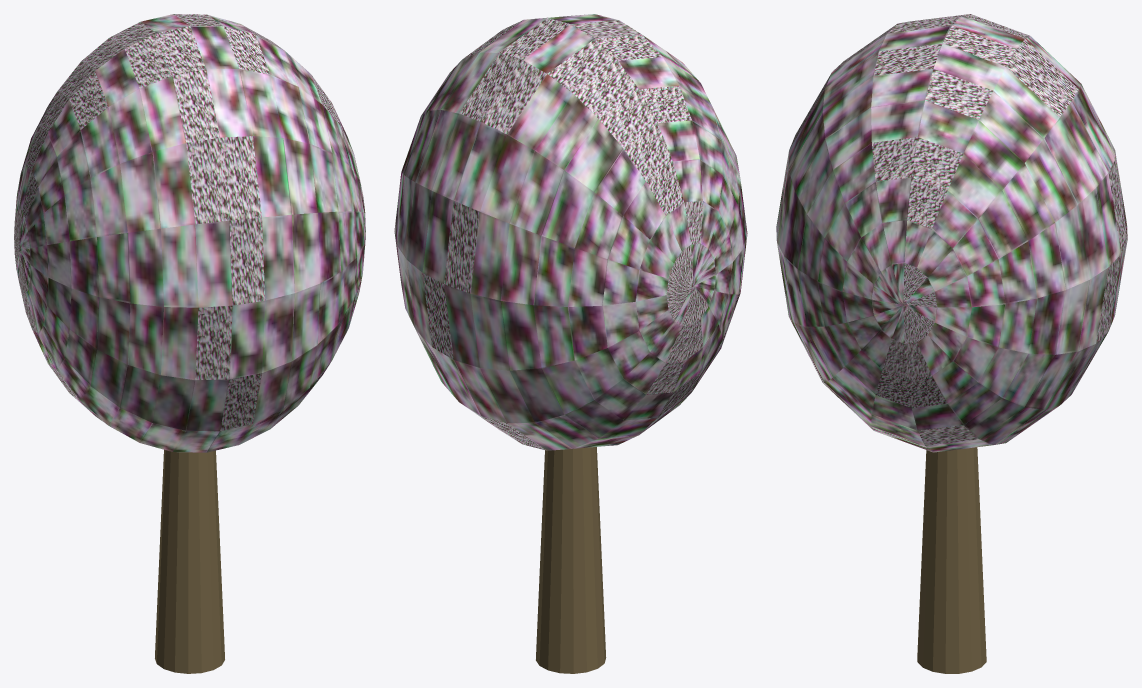
Rendered from GMLID_SO0321978_1466_7441.dae.
3 views of the same model, side by side, from view 1: azimuth 30°, elevation 25°; view 2: azimuth 150°, elevation 25°; view 3: azimuth 270°, elevation 25° (orthographic).
Size of the model in its own units: 6.75 by 6.75 by 13.43.
Materials: 2 (1 with a texture image).
